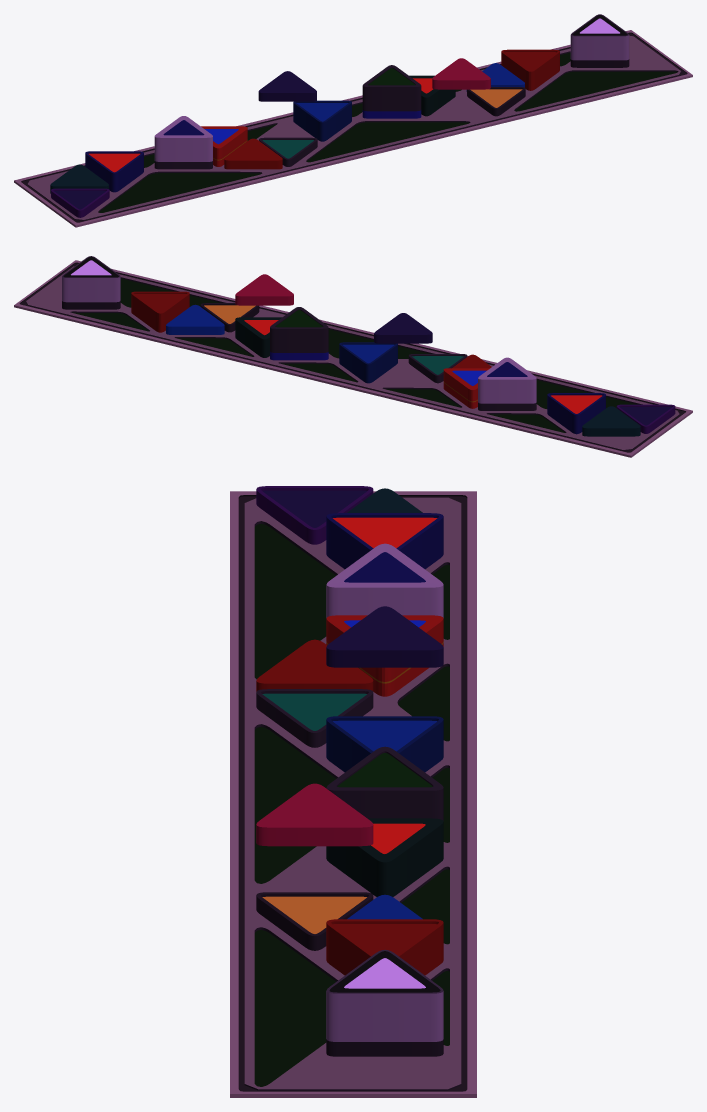
File: W_O_FootpathDecor_002_L0.fbx
The picture shows the model from 3 angles, top to bottom: view 1: azimuth 30°, elevation 25°; view 2: azimuth 150°, elevation 25°; view 3: azimuth 270°, elevation 25°; orthographic projection. The views are drawn at different scales.
Visible parts, largest first — view 1: W_O_FootpathDecor_002_L0; view 2: W_O_FootpathDecor_002_L0; view 3: W_O_FootpathDecor_002_L0.
Boxes of the visible parts, bbox=[...] form: W_O_FootpathDecor_002_L0: bbox=[14, 14, 692, 227]; W_O_FootpathDecor_002_L0: bbox=[14, 256, 692, 457]; W_O_FootpathDecor_002_L0: bbox=[230, 486, 476, 1097].
Size of the model in its own units: 19 by 1.56 by 3.29.
